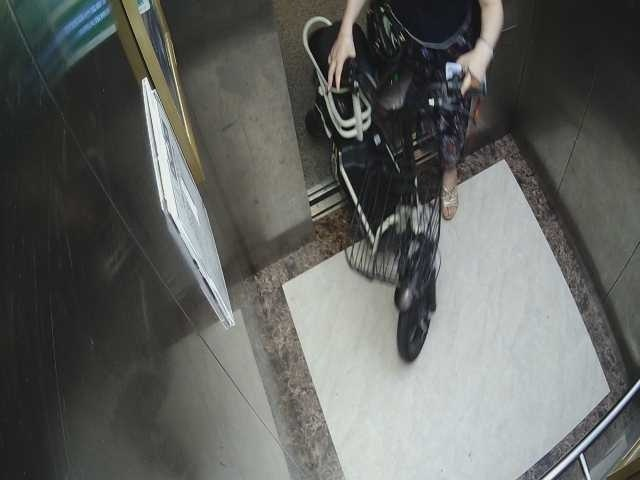emotor: (301, 17, 470, 362)
